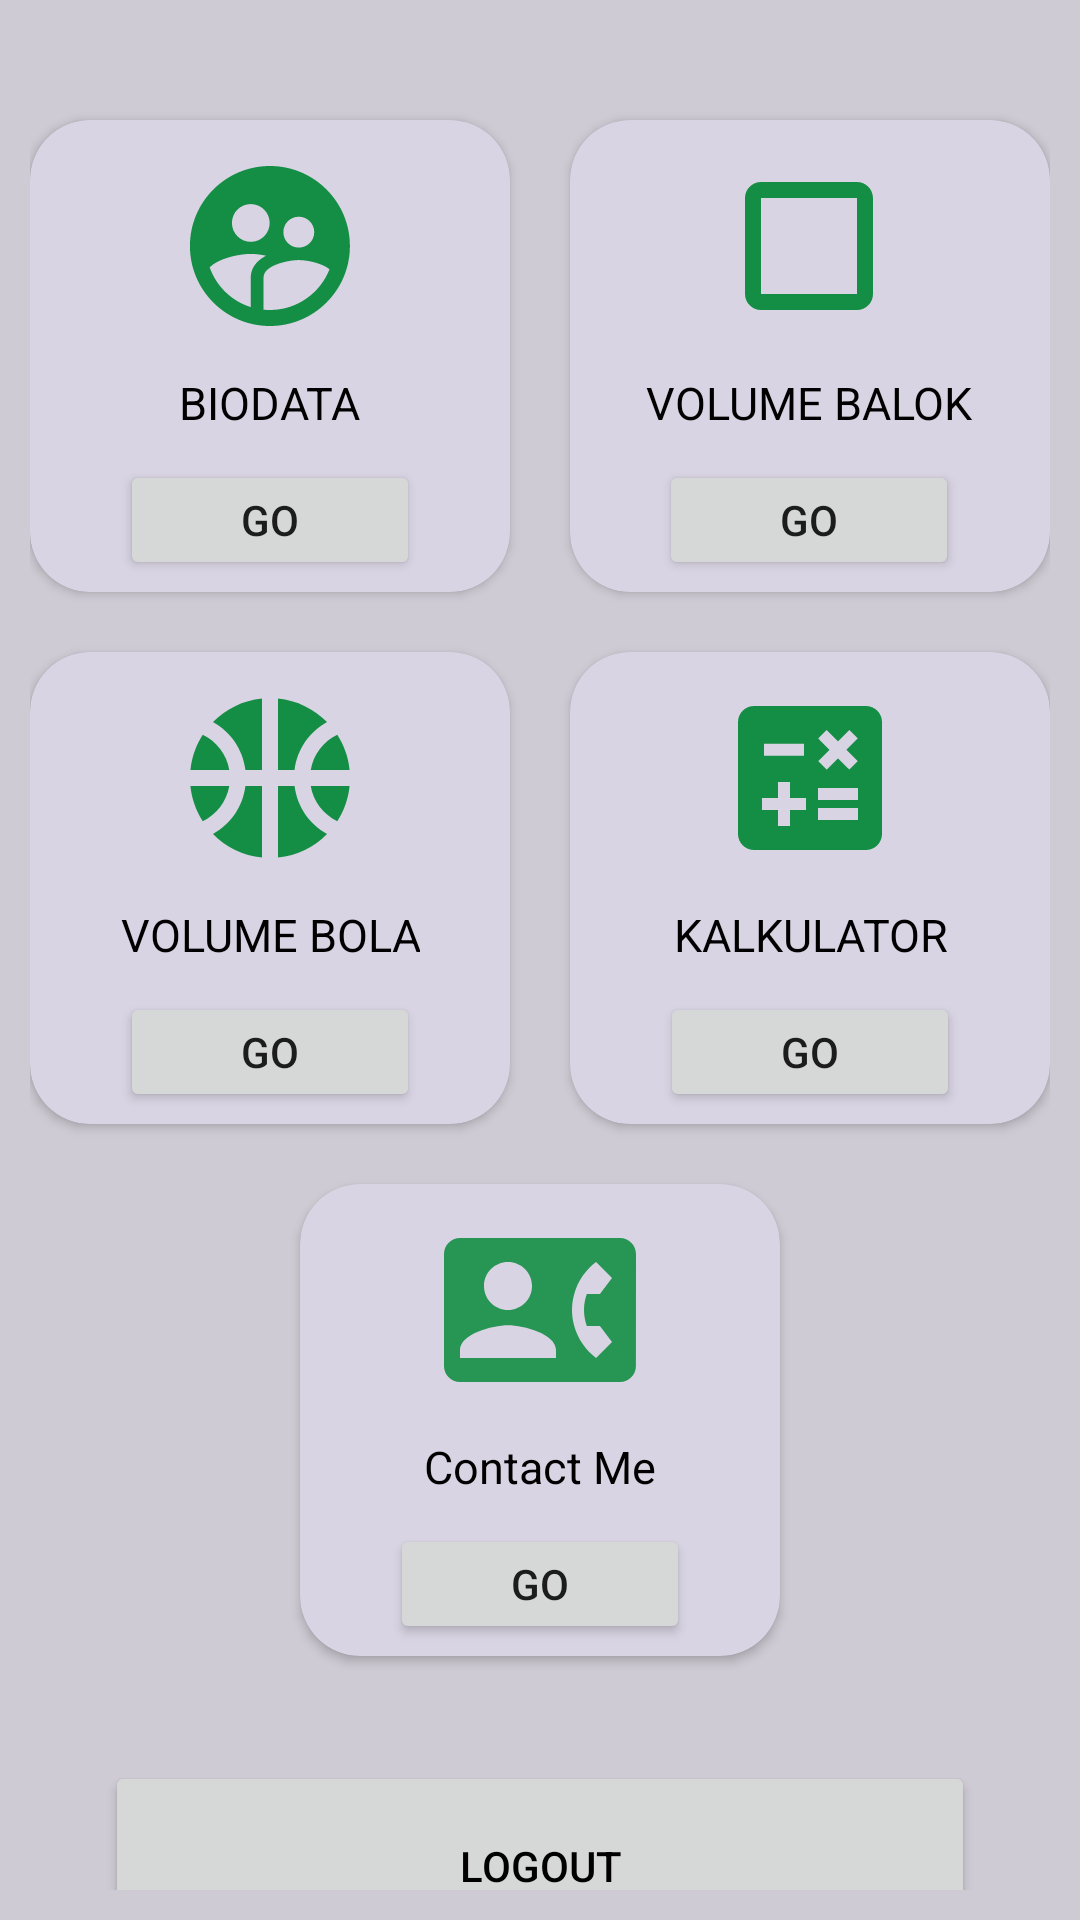

Named icons in this screenshot (1080px×1920px) and their bounding boxes, (x1, y1, x2, y2):
ball: (190, 698, 350, 858)
calculator: (738, 706, 882, 850)
square: (745, 182, 873, 310)
user circle: (190, 166, 350, 326)
